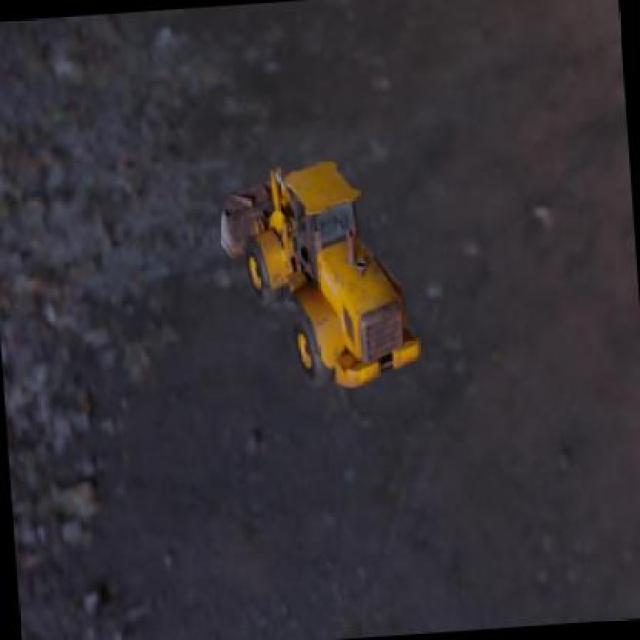buldozerpayloadergrader: (209, 154, 426, 400)
